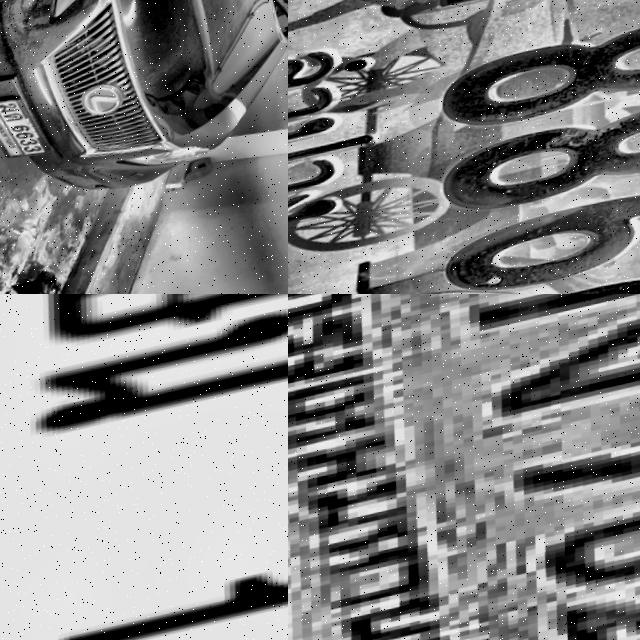license-plate: (288, 294, 640, 640), (288, 0, 640, 294), (0, 294, 288, 640), (0, 91, 67, 178)
